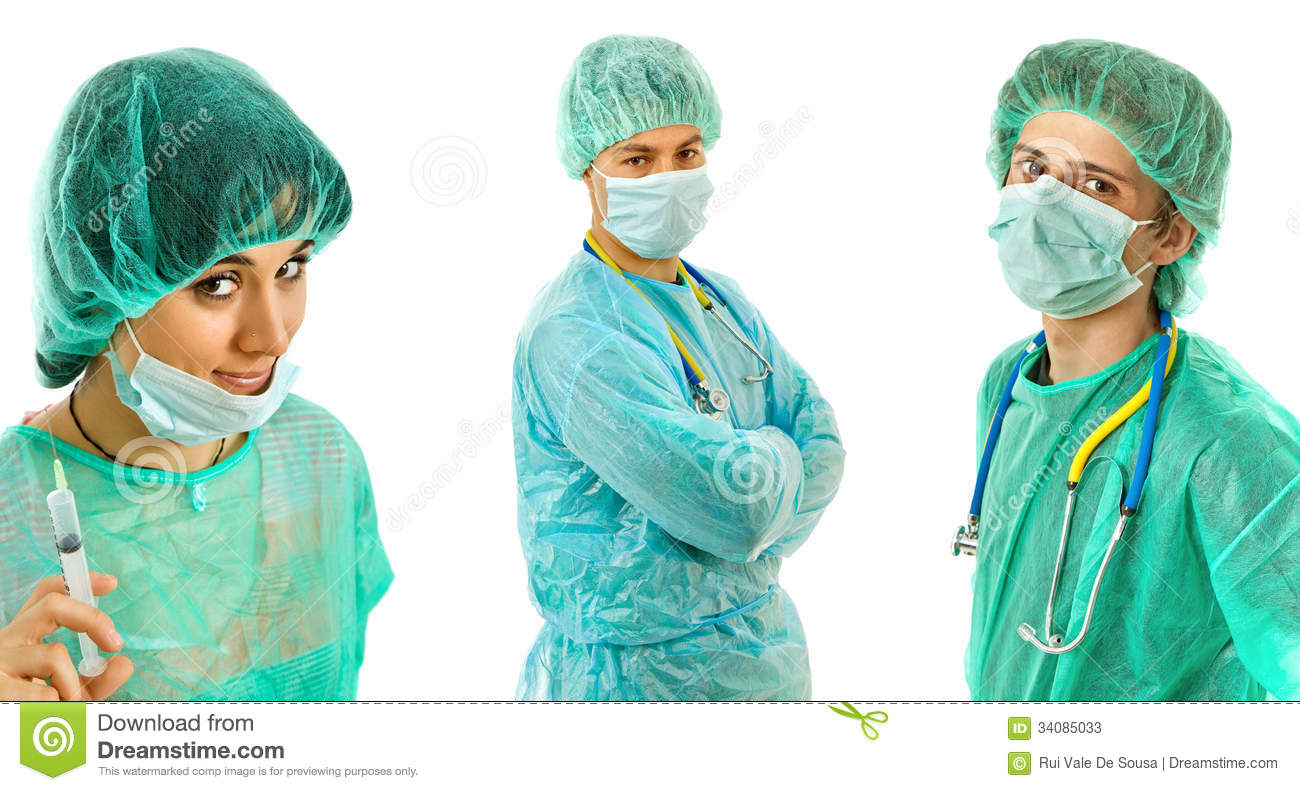mask: (990, 178, 1152, 336), (130, 349, 312, 467), (602, 165, 728, 265)
